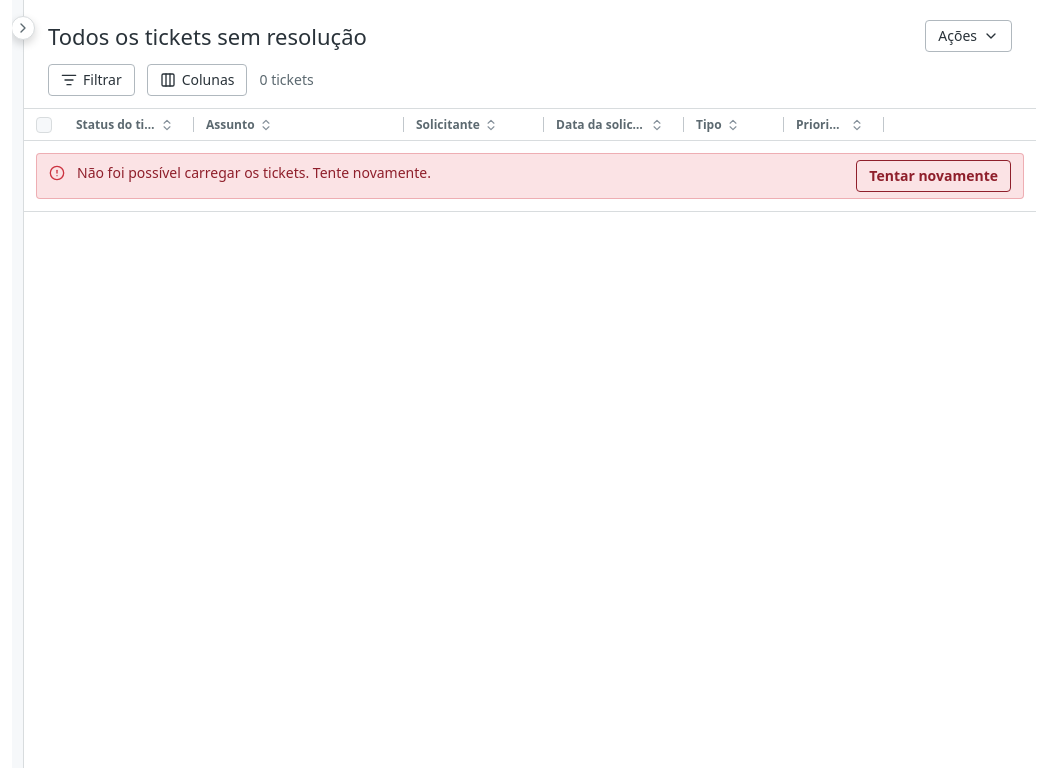
it: Views › erro de API mostra "Tentar novamente" e recupera
Click the button "Tentar novamente".
click(934, 176)  # box [856,160,1011,192]
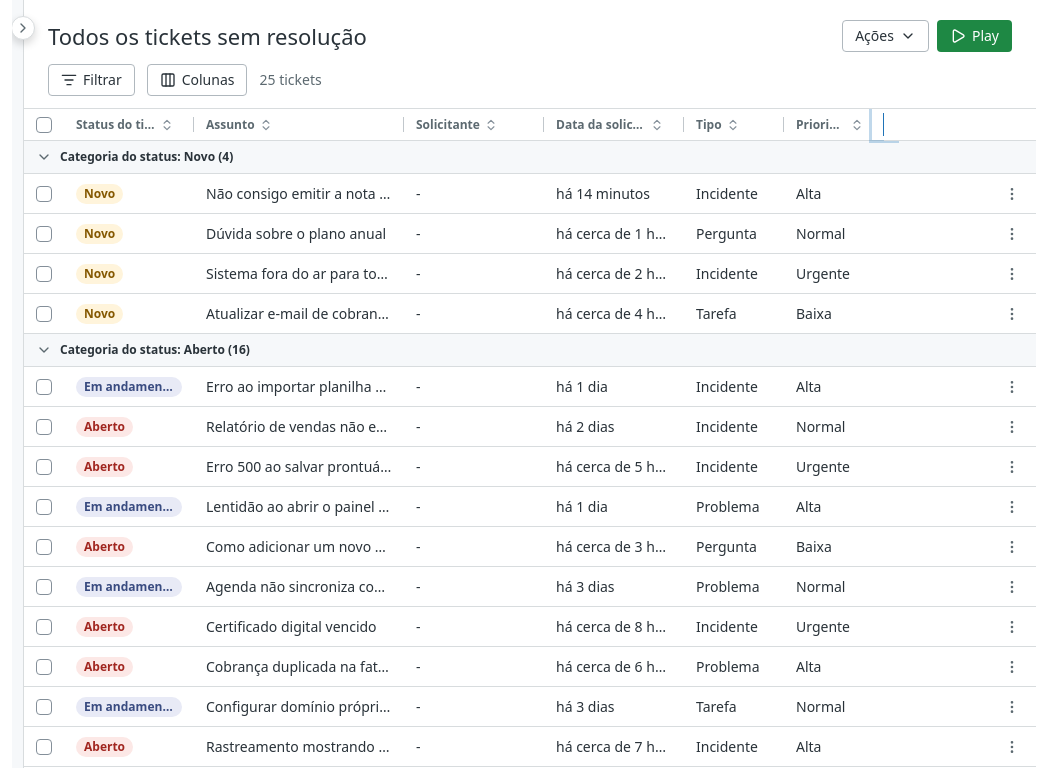
Expected: the text "Categoria do status: Aberto (16)" is shown, [60,342,250,358]
